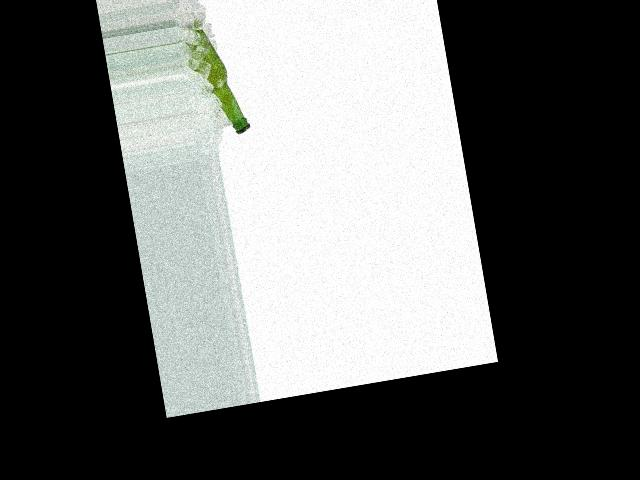beer: (190, 16, 250, 140)
